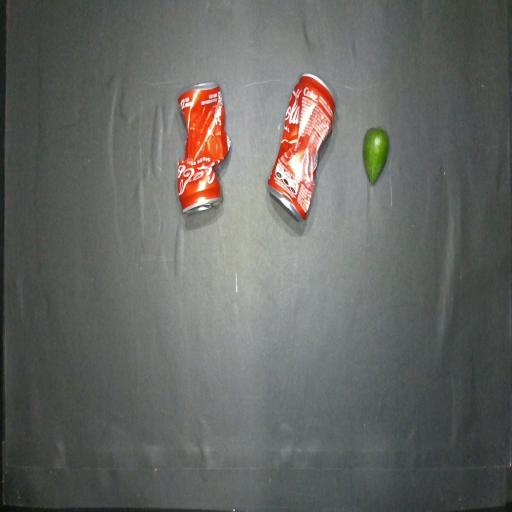higo: (363, 128, 389, 183)
lata_defectuoso: (268, 74, 335, 219), (177, 82, 231, 212)
